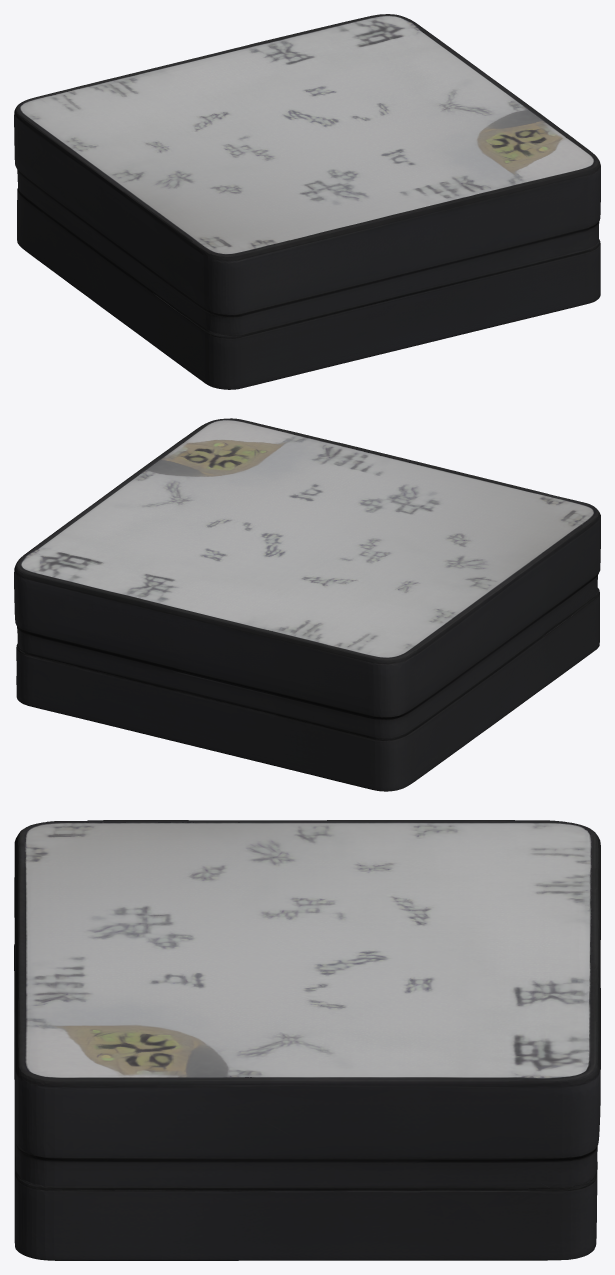
File: 151370_spine_o_pedic_double_15_star.glb
The picture shows the model from 3 angles, top to bottom: view 1: azimuth 30°, elevation 25°; view 2: azimuth 150°, elevation 25°; view 3: azimuth 270°, elevation 25°; orthographic projection. The views are drawn at different scales.
Visible parts, largest first — view 1: world; view 2: world; view 3: world.
Part boxes in pixels (x1,y1,x2,y2): world: (14, 14, 600, 389); world: (14, 418, 600, 791); world: (14, 820, 600, 1260).
Size of the model in its own units: 0.9965 by 0.3214 by 0.9422.
1 material, 1 textured.
